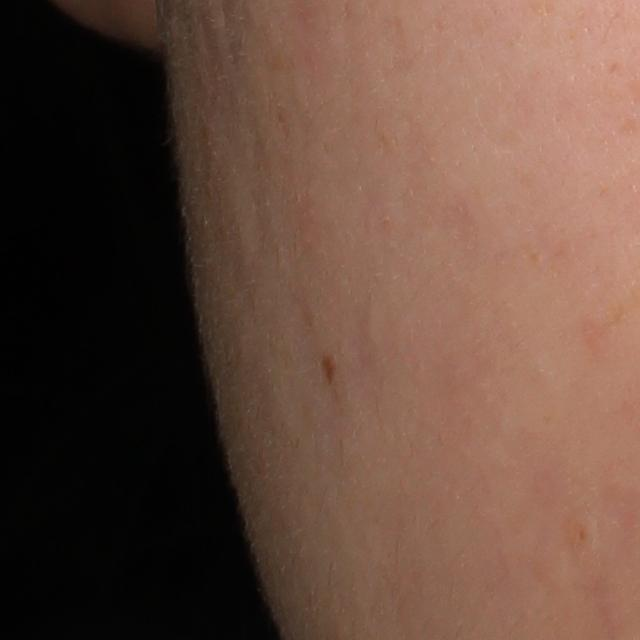nevus: (318, 351, 340, 386)
